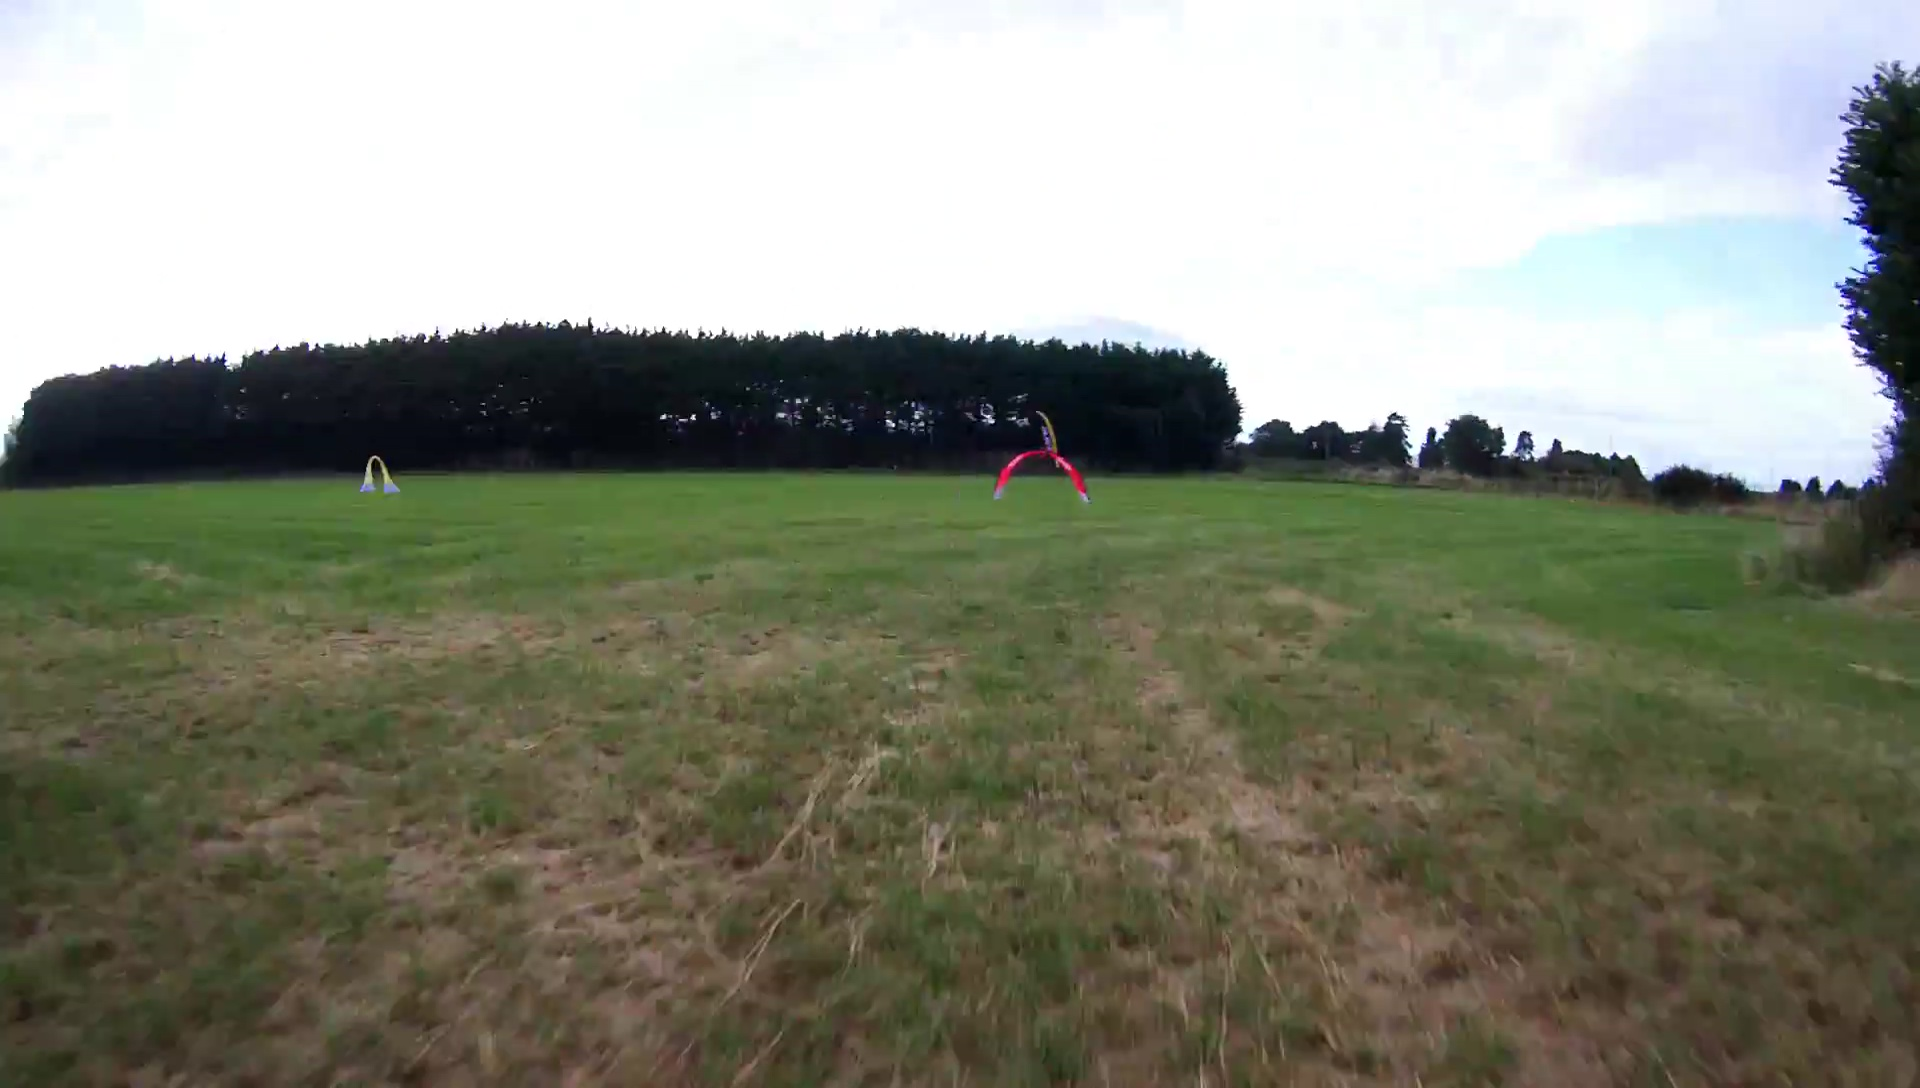gate: (992, 448, 1091, 502), (356, 454, 401, 497)
